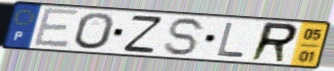E: (31, 6, 82, 49)
L: (216, 21, 247, 59)
O: (73, 11, 117, 51)
R: (247, 21, 301, 64)
S: (162, 16, 209, 57)
Z: (121, 14, 165, 54)
